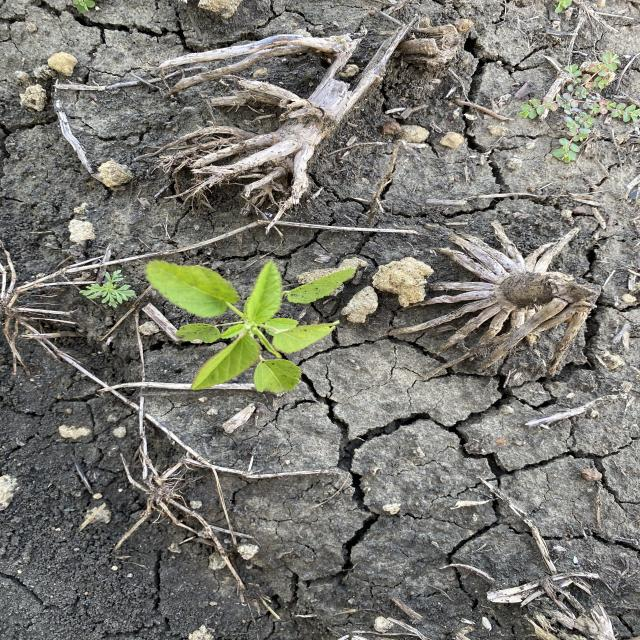PricklySida: (143, 259, 357, 396)
Ragweed: (77, 268, 139, 308)
SpottedSpurge: (518, 49, 638, 164)
